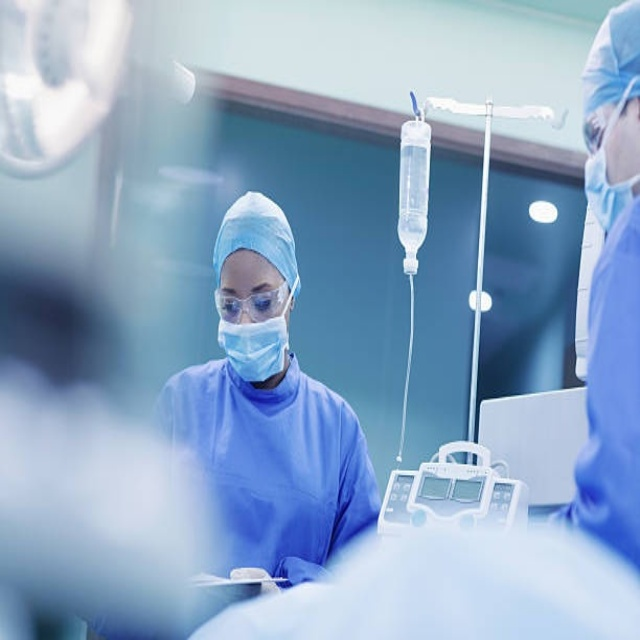Gafas: (579, 85, 638, 158), (215, 277, 293, 323)
Mascara: (581, 104, 625, 235), (213, 314, 290, 387)
